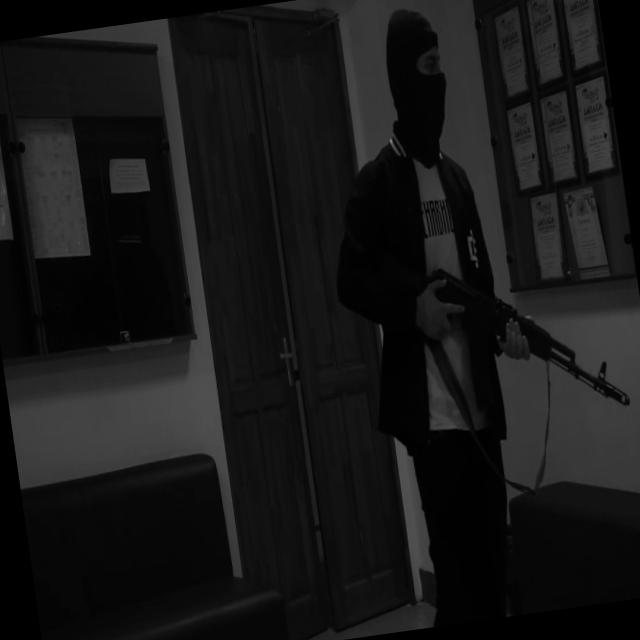gun: (372, 215, 632, 440)
person with a gun: (299, 0, 640, 633)
